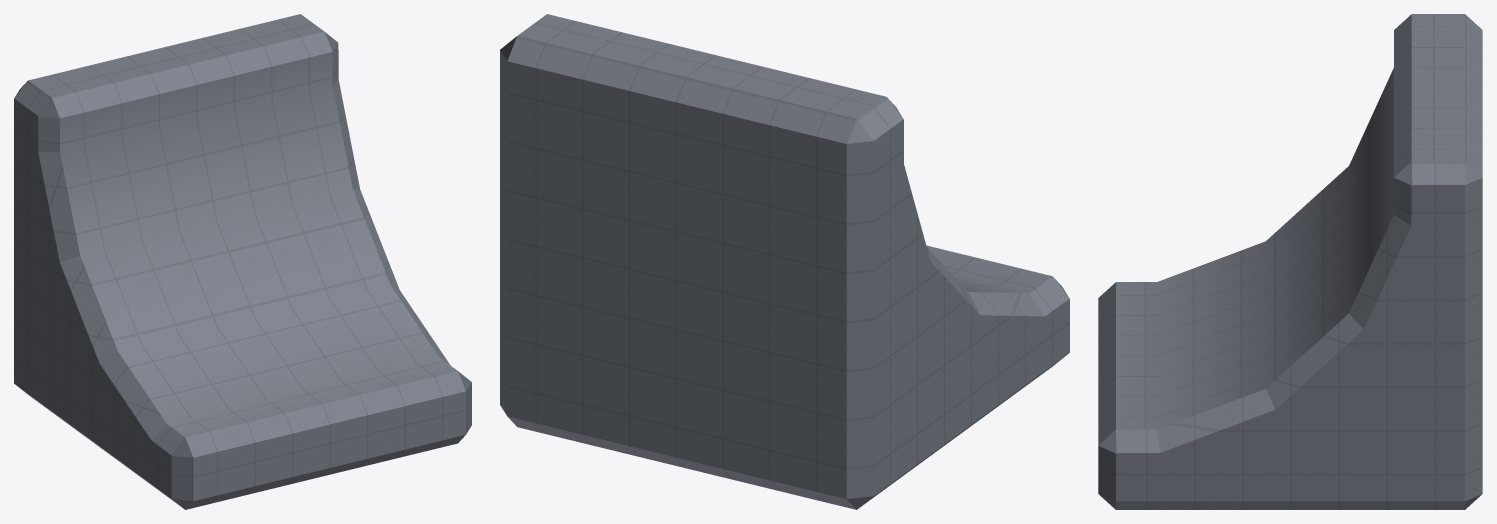
The model's file is R4B_CoveEdge_LOD1.glb.
The picture shows the model from 3 angles, left to right: view 1: azimuth 30°, elevation 25°; view 2: azimuth 150°, elevation 25°; view 3: azimuth 270°, elevation 25°; orthographic projection. The views are drawn at different scales.
Visible parts, largest first — view 1: R4B_CoveEdge_LOD1; view 2: R4B_CoveEdge_LOD1; view 3: R4B_CoveEdge_LOD1.
Part boxes in pixels (bbox=[...]): R4B_CoveEdge_LOD1: bbox=[14, 14, 471, 509]; R4B_CoveEdge_LOD1: bbox=[500, 14, 1069, 509]; R4B_CoveEdge_LOD1: bbox=[1098, 14, 1482, 509].
Bounding box in the file's own units: 0.52 × 0.52 × 0.52.
Materials: 1 (1 with a texture image).
